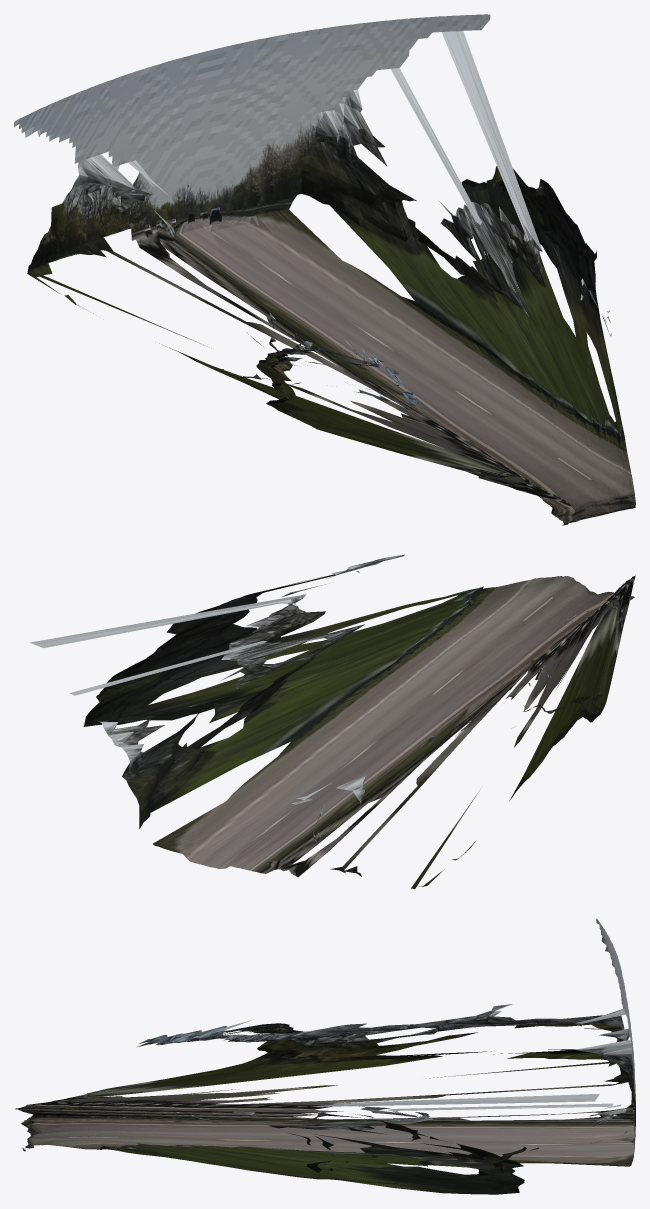
3 views of the same model, one above another, from view 1: azimuth 30°, elevation 25°; view 2: azimuth 150°, elevation 25°; view 3: azimuth 270°, elevation 25° (orthographic). The views are drawn at different scales.
Visible parts, largest first — view 1: defaultobject; view 2: defaultobject; view 3: defaultobject.
Boxes of the visible parts, left/top/right/bottom form: defaultobject: left=14, top=14, right=635, bottom=525; defaultobject: left=29, top=554, right=635, bottom=888; defaultobject: left=15, top=918, right=635, bottom=1194.
Bounding box in the file's own units: 30.55 × 11.71 × 45.19.
Materials: 1 (1 with a texture image).
